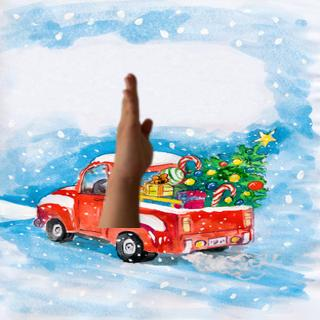RIGHT: (105, 67, 159, 185)
